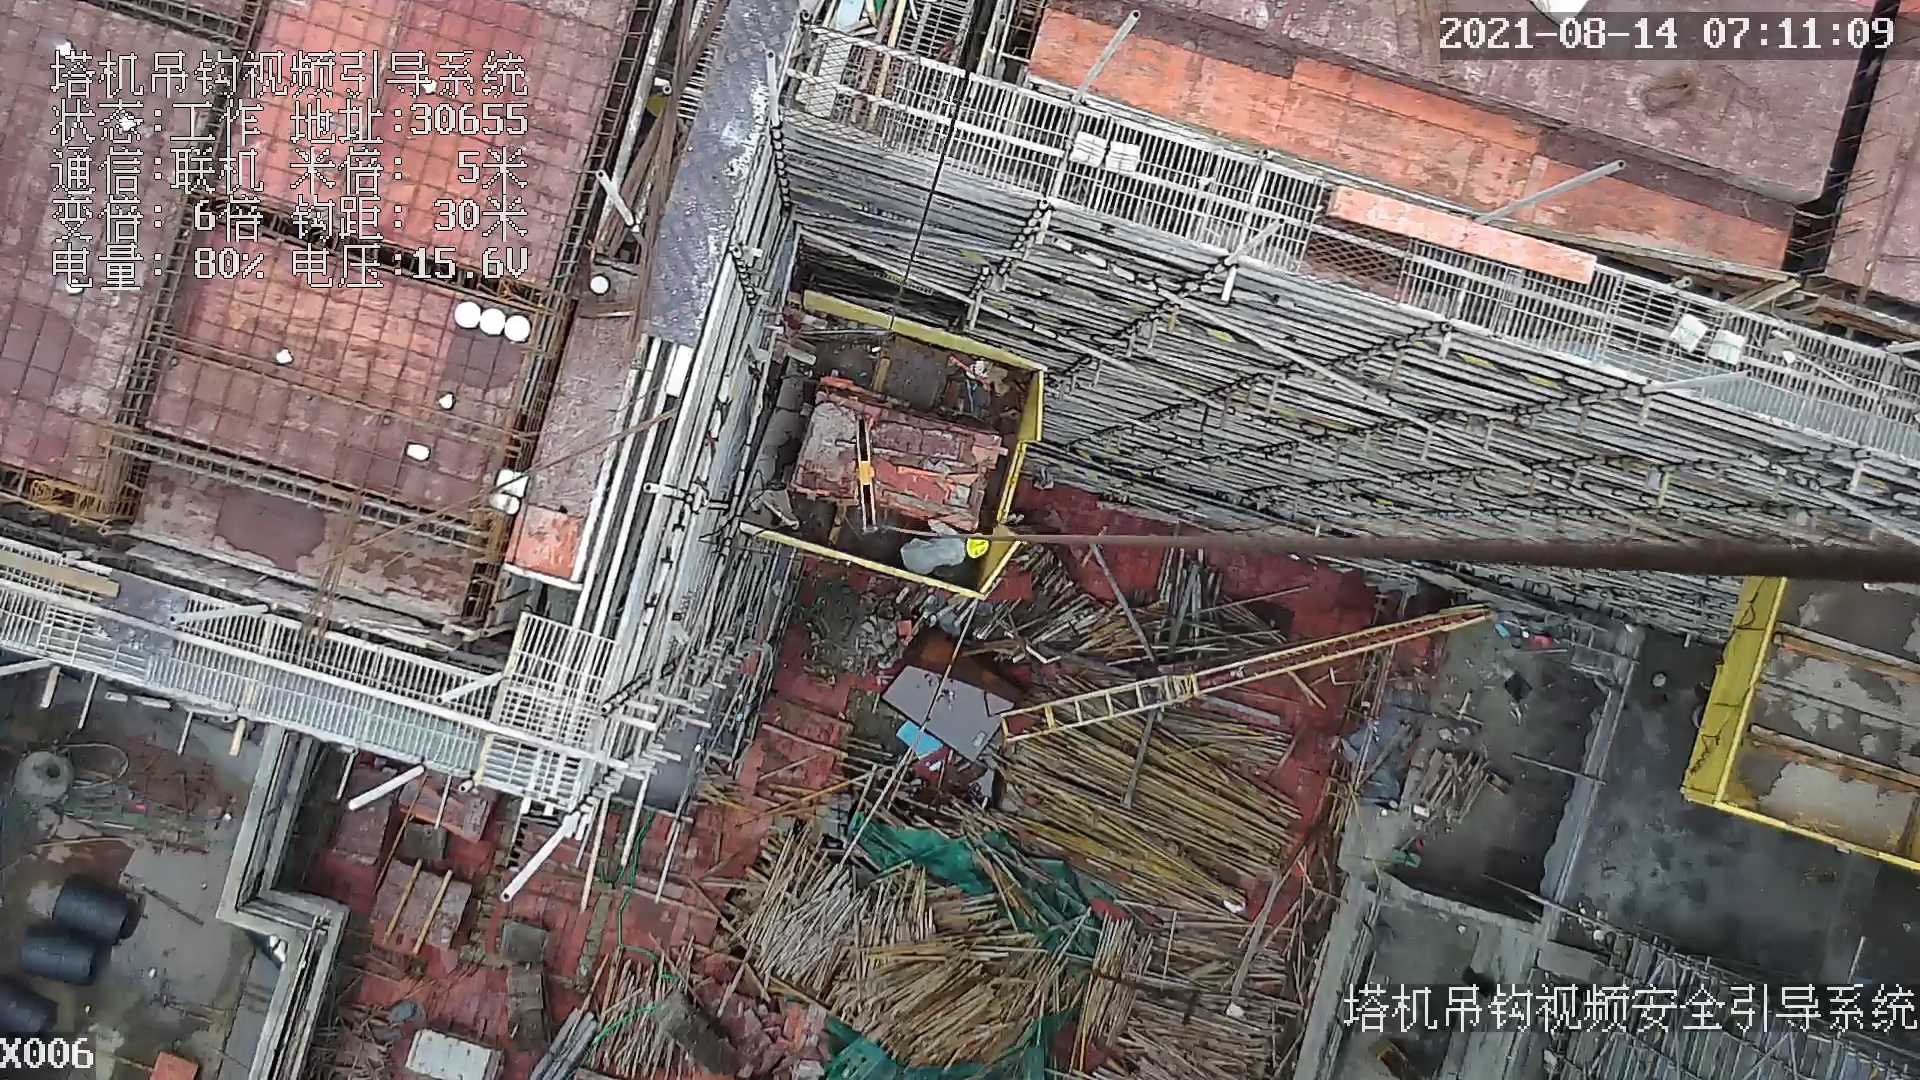helmet: (967, 534, 990, 560)
hook: (842, 413, 886, 535)
person: (896, 518, 995, 573)
